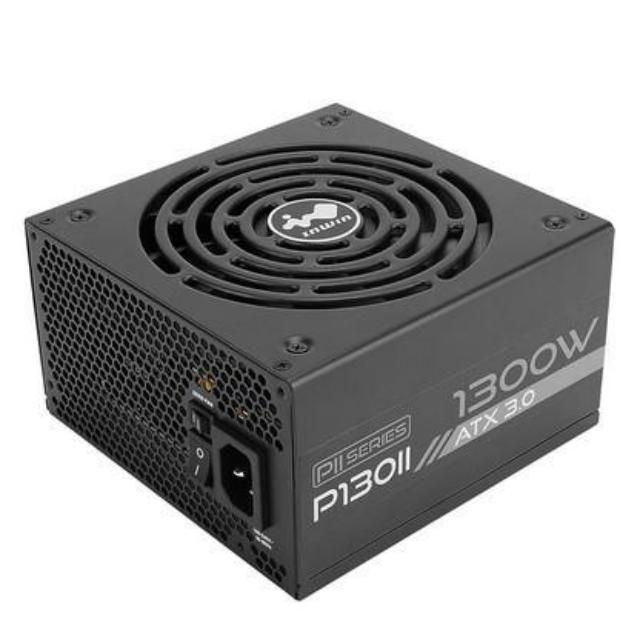PSU: (16, 96, 621, 602)
